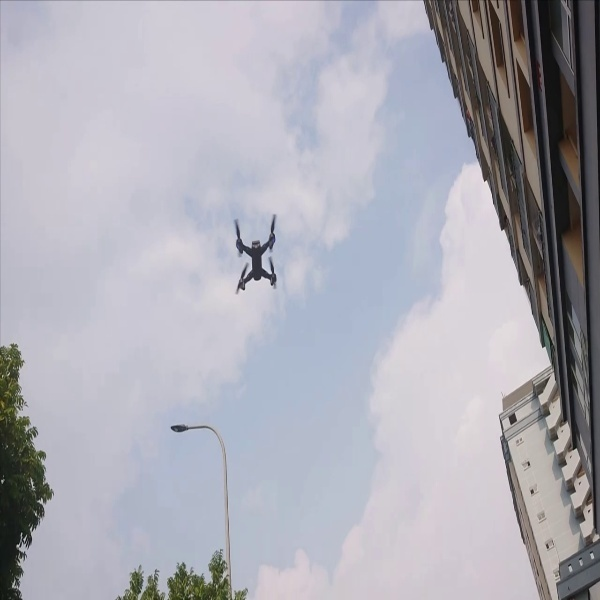drone: (224, 208, 287, 300)
